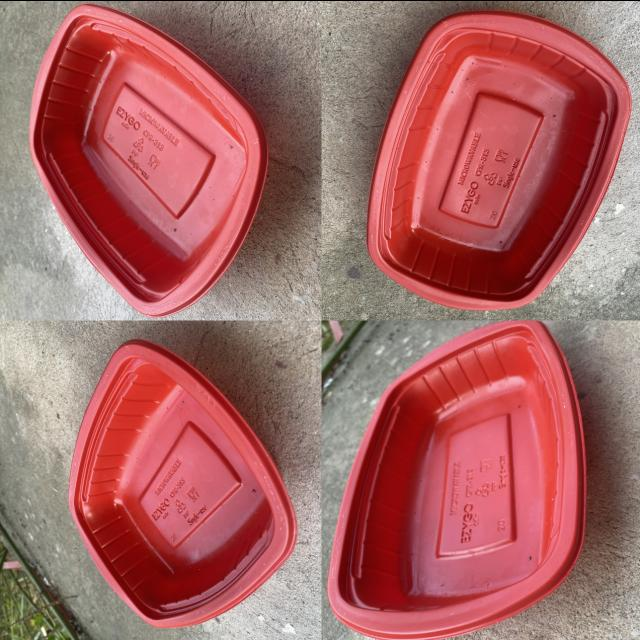plastik: (328, 321, 586, 640), (367, 10, 631, 309), (31, 4, 267, 316), (69, 338, 296, 626)
